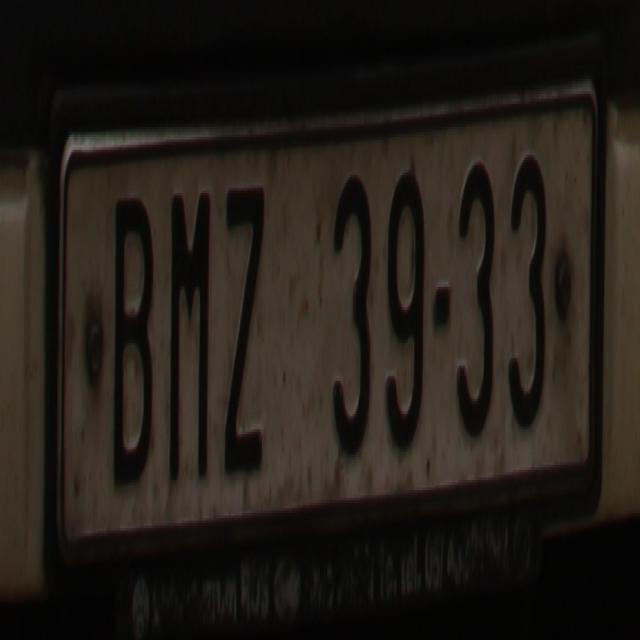3: (508, 147, 548, 427), (332, 168, 372, 447), (456, 155, 494, 442)
9: (385, 162, 424, 442)
B: (112, 198, 154, 480)
M: (166, 173, 213, 480)
Z: (221, 183, 265, 472)
